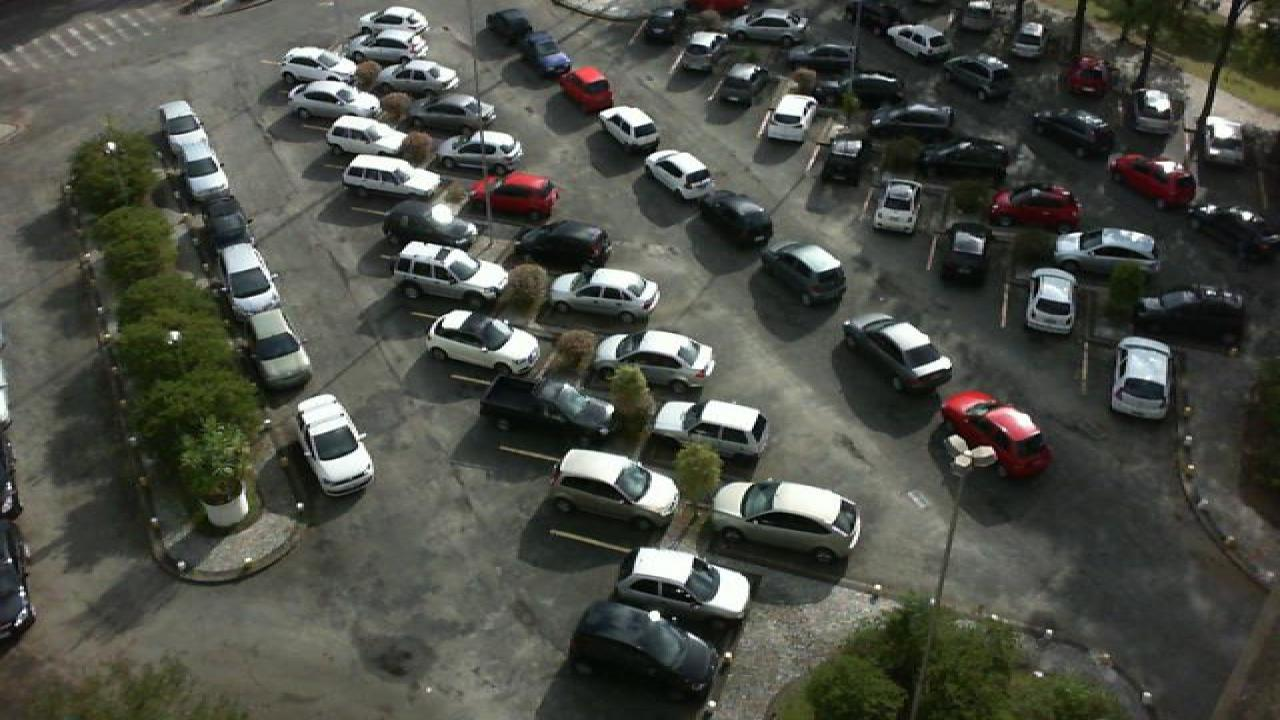Car: (570, 601, 718, 694), (704, 478, 864, 563), (612, 544, 754, 636), (548, 446, 682, 536), (476, 371, 620, 452), (940, 388, 1052, 478), (588, 328, 718, 400), (842, 312, 952, 393), (294, 393, 376, 497), (426, 308, 542, 378), (654, 399, 768, 470), (390, 240, 510, 307), (228, 308, 312, 393), (550, 267, 660, 326), (1050, 225, 1166, 278), (1134, 283, 1244, 338), (760, 242, 846, 308), (512, 217, 612, 271), (1108, 338, 1170, 420), (382, 196, 478, 248), (1108, 152, 1198, 207), (338, 151, 444, 197), (474, 168, 562, 220), (218, 243, 280, 316), (1192, 206, 1280, 255), (702, 190, 774, 248), (992, 184, 1084, 229), (436, 127, 528, 171), (934, 221, 996, 284), (406, 93, 498, 135), (918, 135, 1010, 177), (286, 80, 380, 120), (1024, 267, 1080, 334), (644, 148, 716, 200), (1030, 107, 1110, 153), (322, 114, 404, 158), (868, 101, 956, 142), (868, 178, 924, 234), (940, 52, 1010, 96), (278, 47, 360, 84), (374, 60, 458, 96), (598, 106, 662, 153), (156, 99, 208, 156), (346, 33, 428, 68), (202, 192, 250, 251), (176, 148, 228, 202), (882, 22, 954, 61), (780, 42, 858, 76), (560, 66, 616, 112), (732, 7, 812, 39), (520, 30, 574, 76), (770, 92, 816, 143), (822, 135, 868, 185), (1204, 97, 1252, 144), (358, 6, 428, 38), (1132, 86, 1176, 132), (678, 30, 724, 74), (720, 63, 766, 106), (486, 8, 534, 45), (640, 4, 684, 44), (808, 76, 854, 112), (1068, 55, 1106, 96), (1014, 22, 1044, 60), (960, 0, 994, 33)
